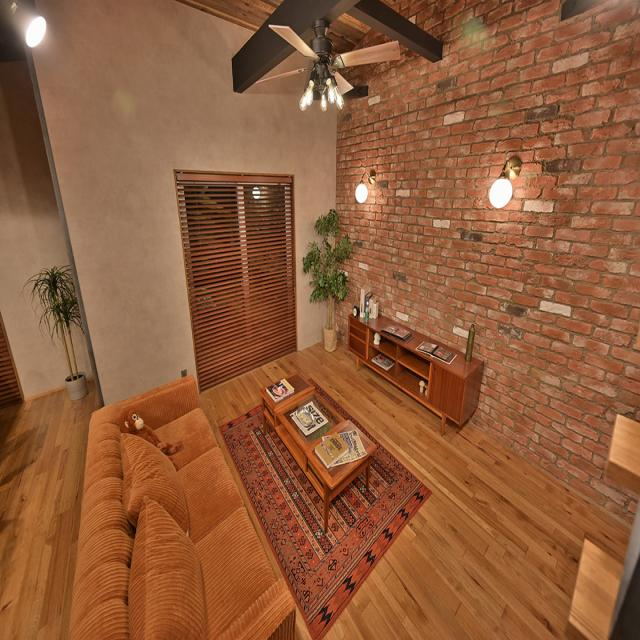vintage desk: (260, 373, 374, 530)
vintage shelf: (348, 304, 484, 435)
vintage sofa: (68, 371, 294, 640)
